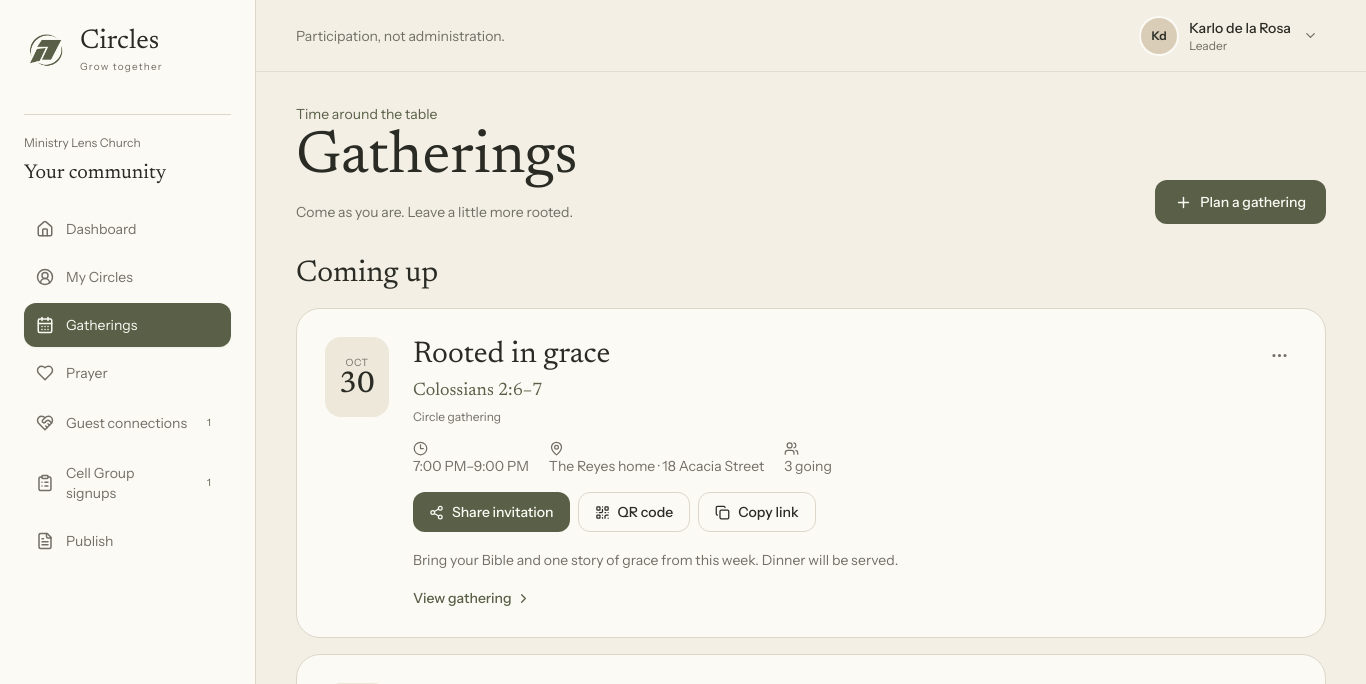
Test: Circles MVP › offers organization and Circle destinations when planning a gathering
This screenshot has width=1366, height=684.
Click the button "Plan a gathering" at (1241, 202), box [1155,180,1326,224]
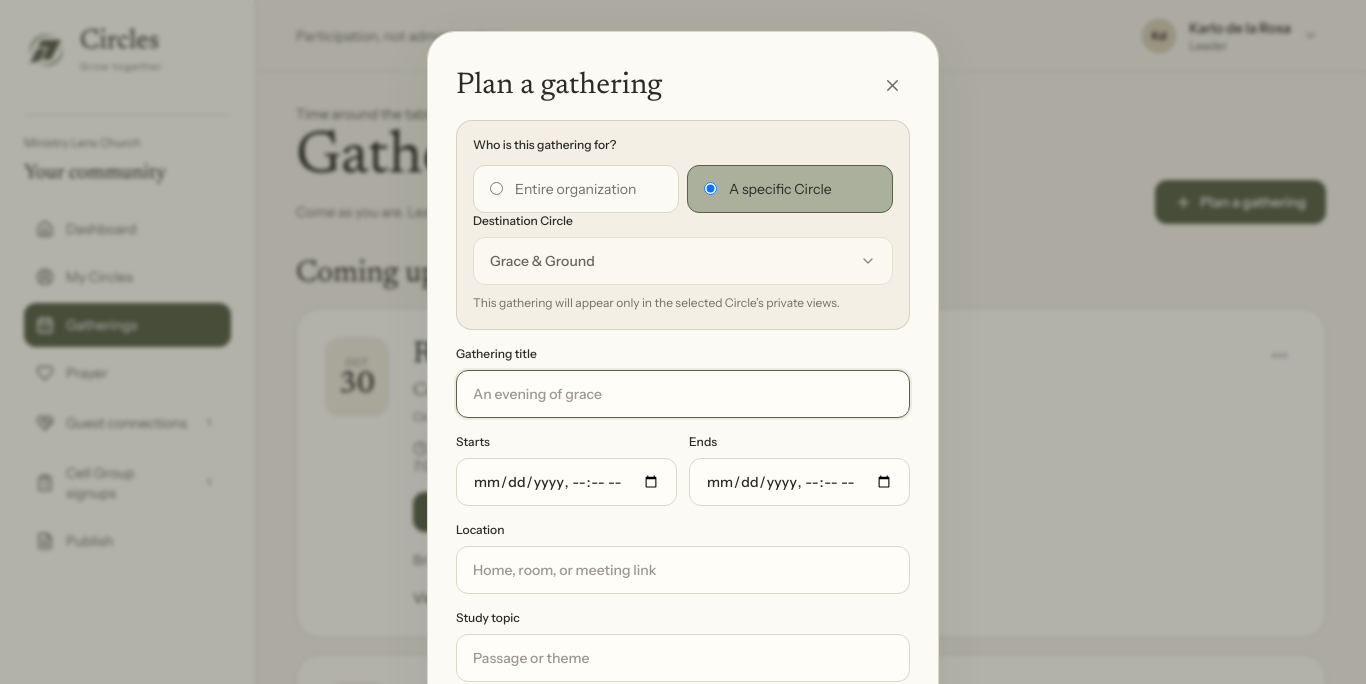
Result: the radio button labelled "Entire organization" is shown at [490,182,503,195]
Result: the radio button labelled "A specific Circle" is shown at [704,182,717,195]
